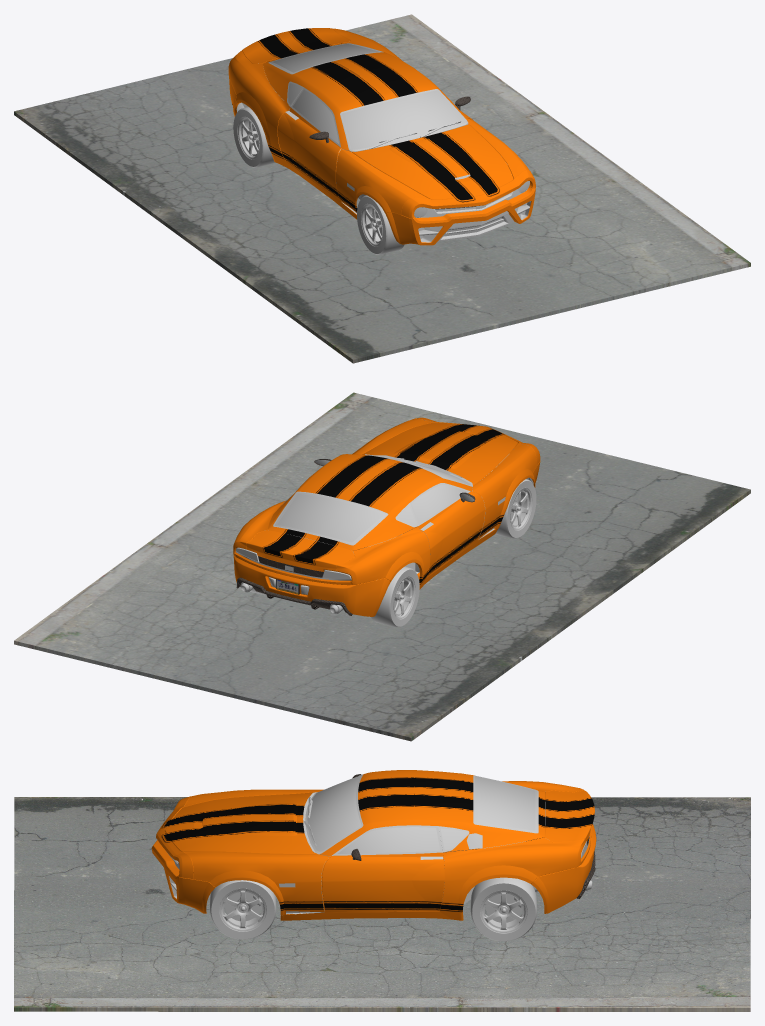
The model's file is CarsonGTConcept.obj.
The picture shows the model from 3 angles, top to bottom: view 1: azimuth 30°, elevation 25°; view 2: azimuth 150°, elevation 25°; view 3: azimuth 270°, elevation 25°; orthographic projection. The views are drawn at different scales.
Visible parts, largest first — view 1: Road_Road_ROAD_0.001, Car_Mesh_77_F1_49_51_Submesh_52, Bonnet_Mesh_77_F1_49_51_Submesh_52.001, Wheels_Car_0; view 2: Road_Road_ROAD_0.001, Car_Mesh_77_F1_49_51_Submesh_52, Bonnet_Mesh_77_F1_49_51_Submesh_52.001, Wheels_Car_0; view 3: Road_Road_ROAD_0.001, Car_Mesh_77_F1_49_51_Submesh_52, Bonnet_Mesh_77_F1_49_51_Submesh_52.001, Wheels_Car_0.
Boxes of the visible parts, x1,y1,x2,y2 form: Road_Road_ROAD_0.001: [14, 14, 750, 363]; Car_Mesh_77_F1_49_51_Submesh_52: [228, 28, 535, 245]; Bonnet_Mesh_77_F1_49_51_Submesh_52.001: [352, 123, 513, 199]; Wheels_Car_0: [233, 107, 404, 254]; Road_Road_ROAD_0.001: [14, 392, 750, 741]; Car_Mesh_77_F1_49_51_Submesh_52: [233, 417, 540, 616]; Bonnet_Mesh_77_F1_49_51_Submesh_52.001: [362, 422, 518, 486]; Wheels_Car_0: [250, 479, 536, 627]; Road_Road_ROAD_0.001: [14, 797, 750, 1011]; Car_Mesh_77_F1_49_51_Submesh_52: [151, 770, 596, 920]; Bonnet_Mesh_77_F1_49_51_Submesh_52.001: [164, 792, 317, 854]; Wheels_Car_0: [210, 877, 536, 941].
Bounding box in the file's own units: 5.36 × 1.36 × 7.92.
